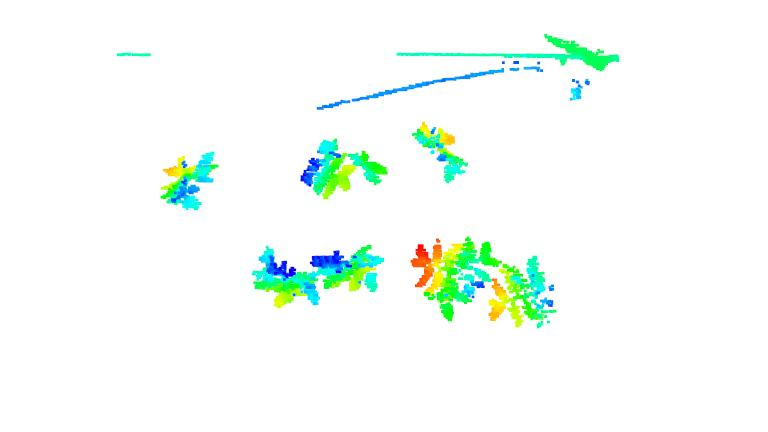chickpea: (409, 234, 500, 324), (485, 254, 556, 329), (250, 244, 322, 311), (309, 244, 386, 296), (409, 120, 470, 185), (158, 149, 223, 209), (299, 136, 355, 201), (349, 148, 389, 187)
